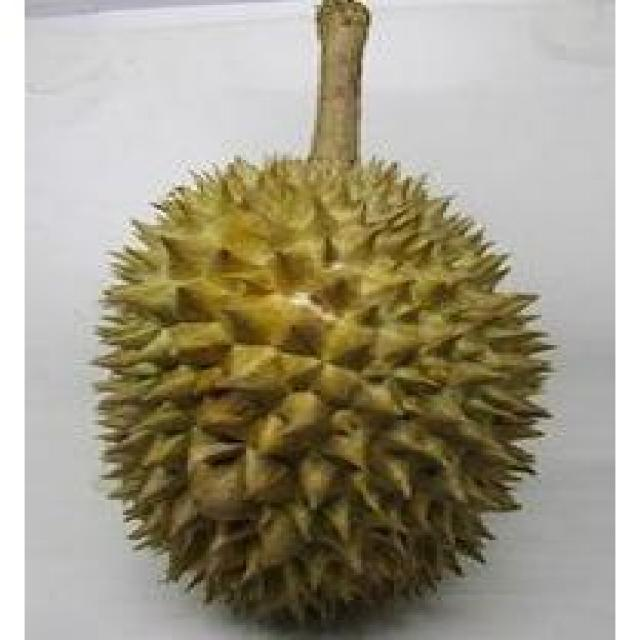Fruit: (123, 168, 529, 630)
